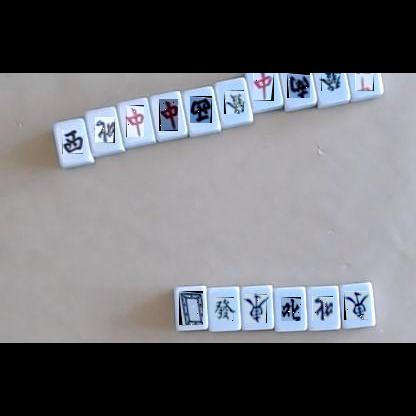1z: (344, 291, 368, 320), (245, 294, 267, 323)
2z: (287, 73, 310, 98)
3z: (190, 96, 212, 123), (62, 130, 83, 154)
4z: (312, 296, 333, 321), (95, 117, 115, 143), (281, 297, 301, 321)
5z: (179, 291, 203, 325)
6z: (224, 90, 244, 114), (214, 297, 234, 321), (321, 73, 341, 91)
7z: (159, 99, 178, 131), (253, 73, 274, 101), (126, 105, 144, 137), (355, 73, 374, 91)
